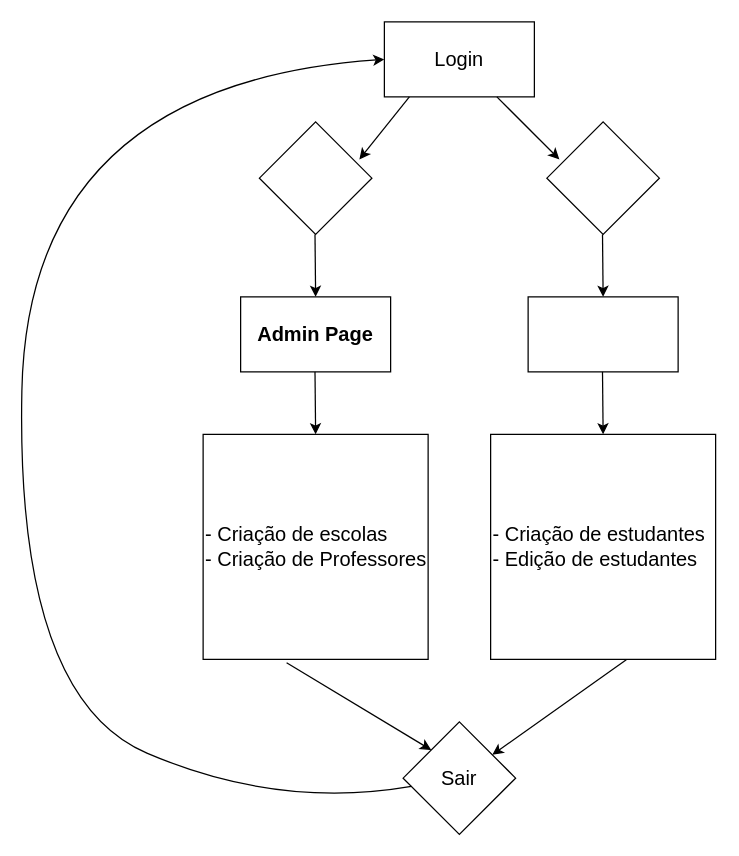
Some shapes in this 739 by 856 pixel diagram are drawn without their labels. Each missing label, with the box of its shape:
Admin: (258, 121, 372, 234)
Professor: (546, 121, 659, 234)
Teacher Page: (527, 296, 678, 372)
